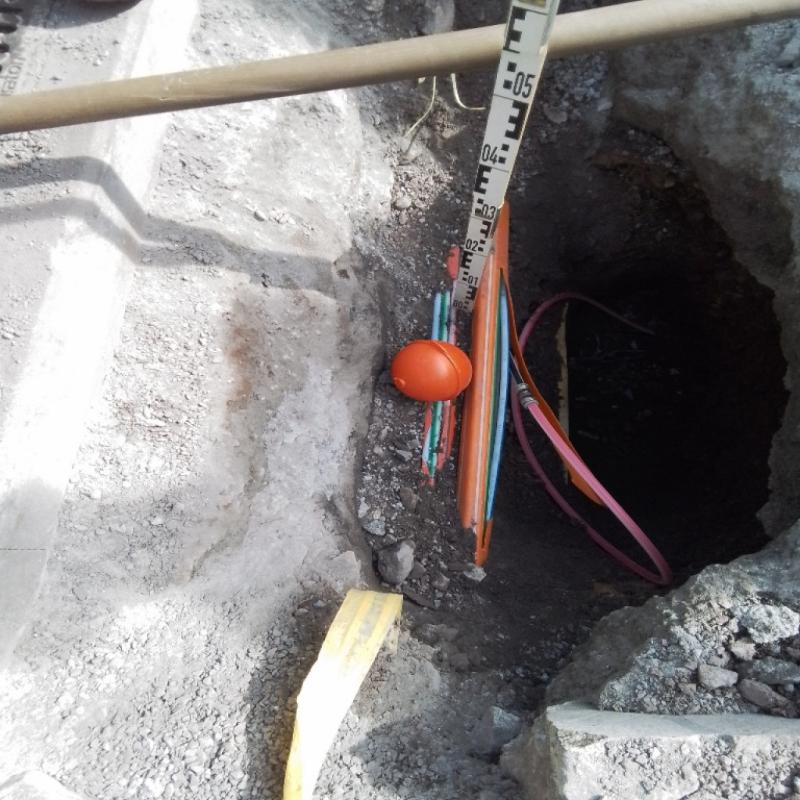Kugelmarker: (391, 339, 471, 401)
Orang-Speednetrohrchen: (456, 200, 549, 557)
